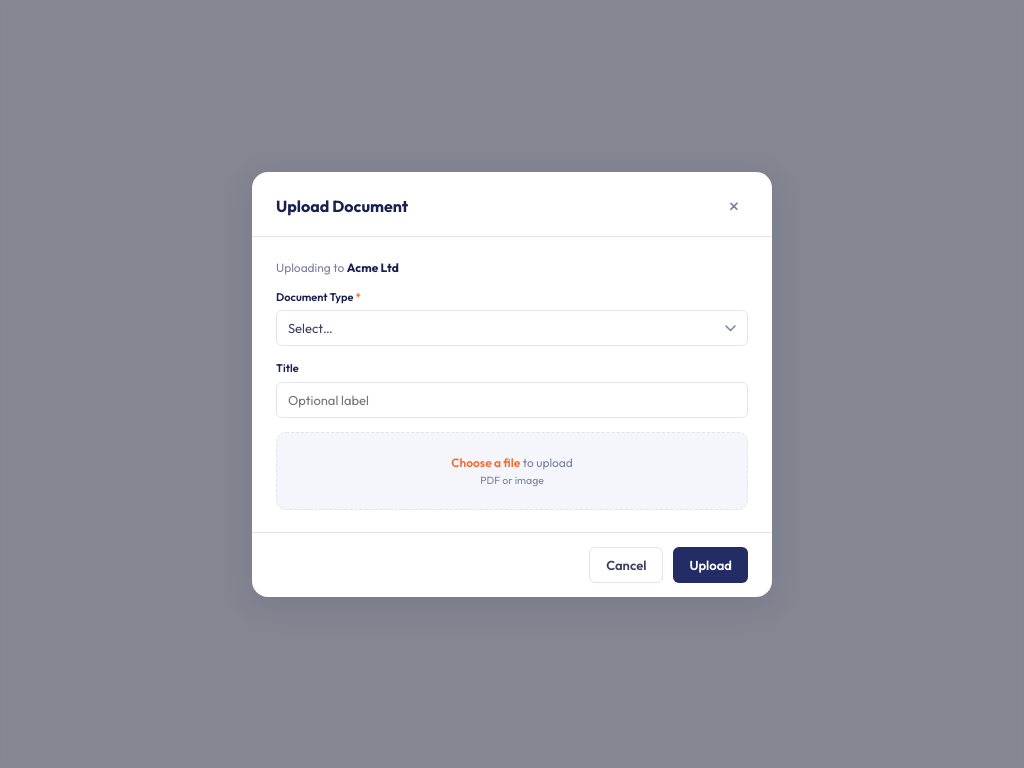
Test: UploadDocumentModal › warns that re-uploading an existing type creates a new version
The width and height of the screenshot is (1024, 768).
Select "Certificate of Incorporation" in the dropdown labelled "Document Type *" at {"x": 512, "y": 328}, box [276, 310, 748, 346]
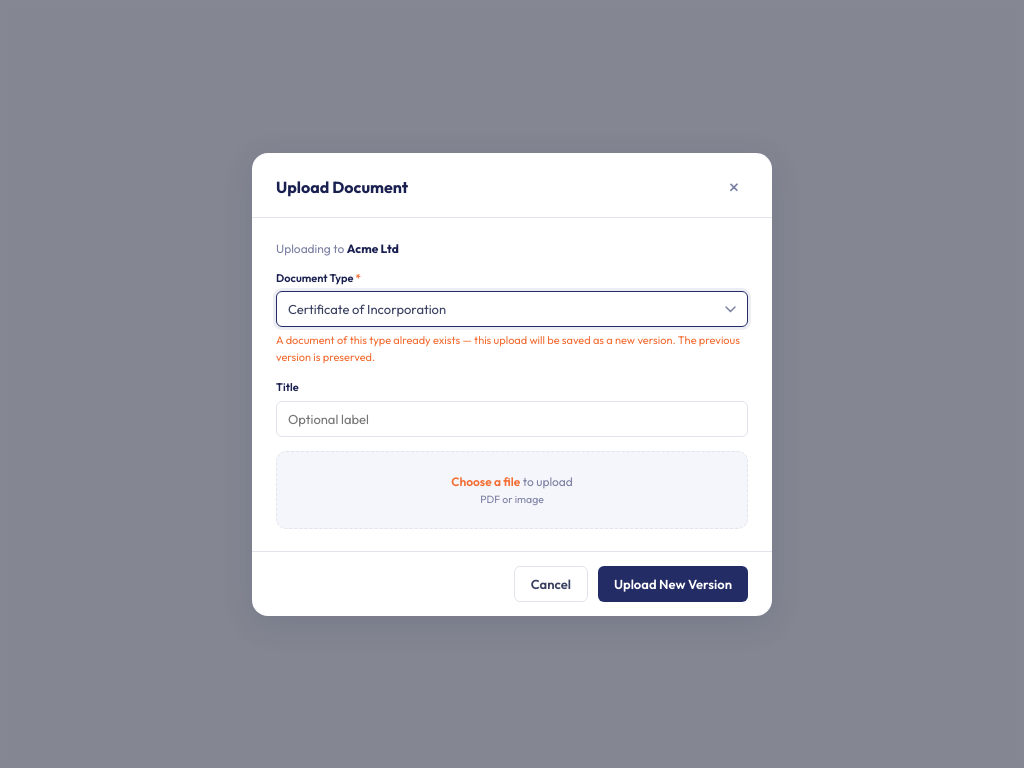
Now the text "will be saved as a new version" is shown, box [276, 333, 740, 364]
Now the button "Upload New Version" is shown, box [598, 566, 748, 602]
